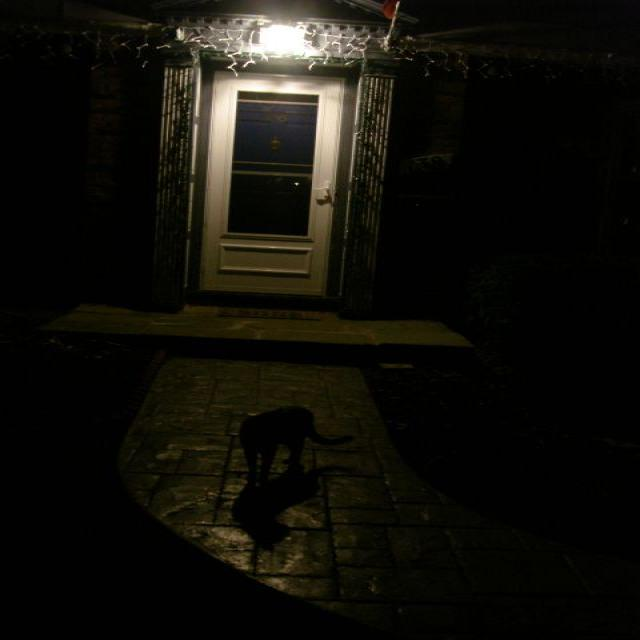Cat: (231, 393, 360, 477)
